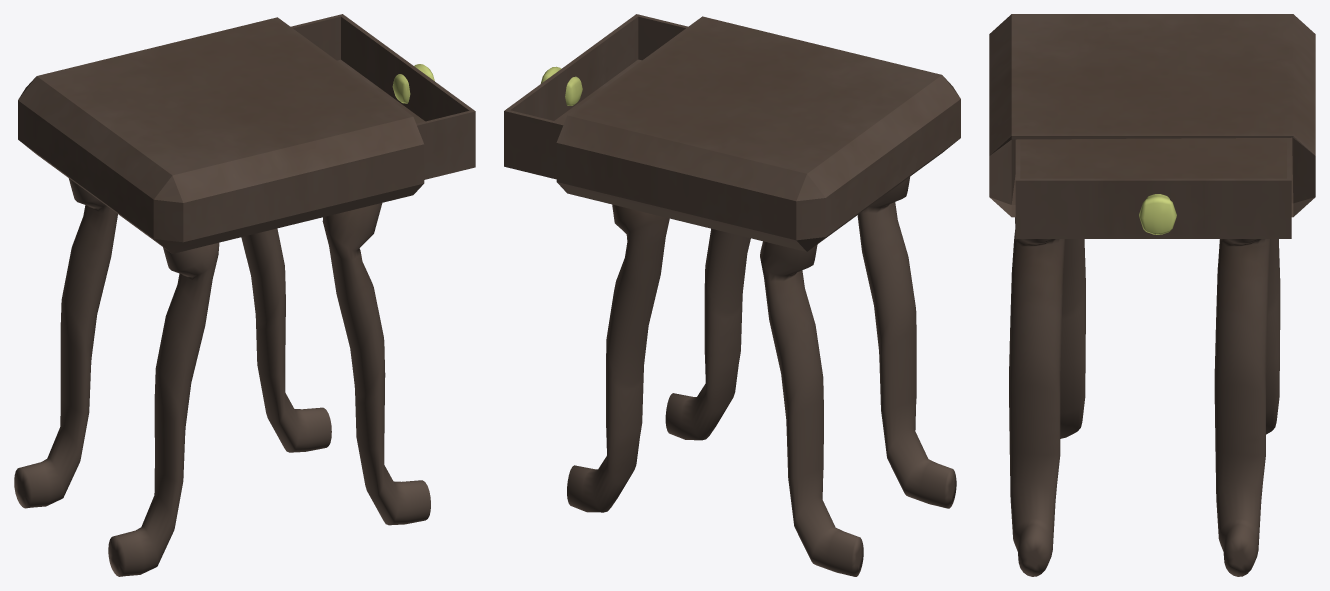
File: nightstand.fbx
The picture shows the model from 3 angles, left to right: view 1: azimuth 30°, elevation 25°; view 2: azimuth 150°, elevation 25°; view 3: azimuth 270°, elevation 25°; orthographic projection. The views are drawn at different scales.
Visible parts, largest first — view 1: polySurface489; view 2: polySurface489; view 3: polySurface489.
Boxes of the visible parts, box(x1,y1,x2,y2) form: polySurface489: box(14, 14, 475, 576); polySurface489: box(504, 14, 960, 576); polySurface489: box(989, 14, 1315, 576).
Bounding box in the file's own units: 0.6734 × 0.7385 × 0.5064.
1 material, 1 textured.
